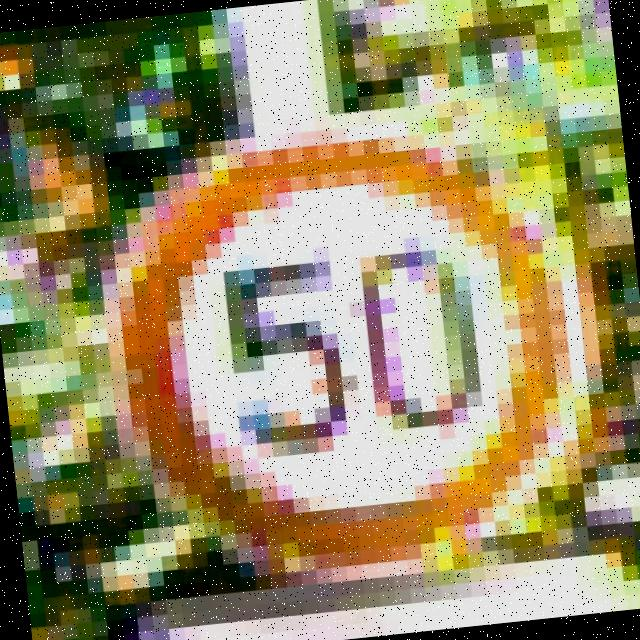Ograniczenie predkosci do 50: (102, 111, 590, 595)
